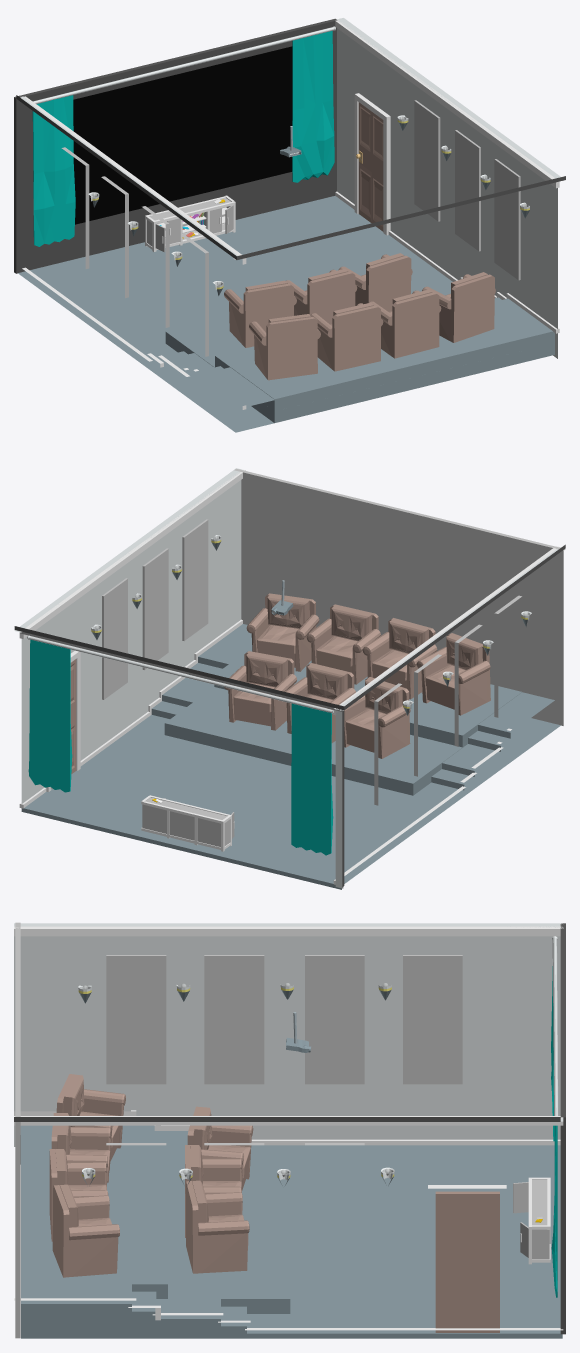
The model's file is home-theater.gltf.
3 views of the same model, one above another, from view 1: azimuth 30°, elevation 25°; view 2: azimuth 150°, elevation 25°; view 3: azimuth 270°, elevation 25° (orthographic). The views are drawn at different scales.
Visible parts, largest first — view 1: mesh2057757694; view 2: mesh2057757694; view 3: mesh2057757694.
Boxes of the visible parts, x1=… form: mesh2057757694: x1=14, y1=18, x2=565, y2=432; mesh2057757694: x1=14, y1=468, x2=565, y2=889; mesh2057757694: x1=14, y1=922, x2=565, y2=1338.
Bounding box in the file's own units: 6.07 × 3.32 × 7.11.
